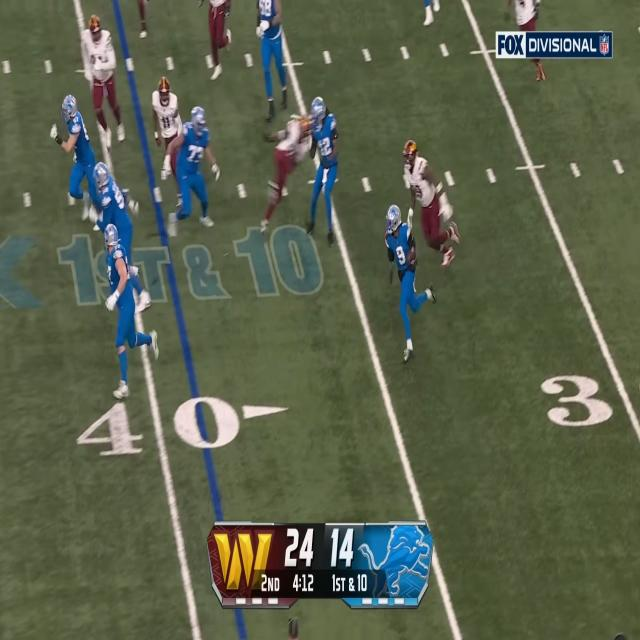Ball: (406, 248, 417, 266)
